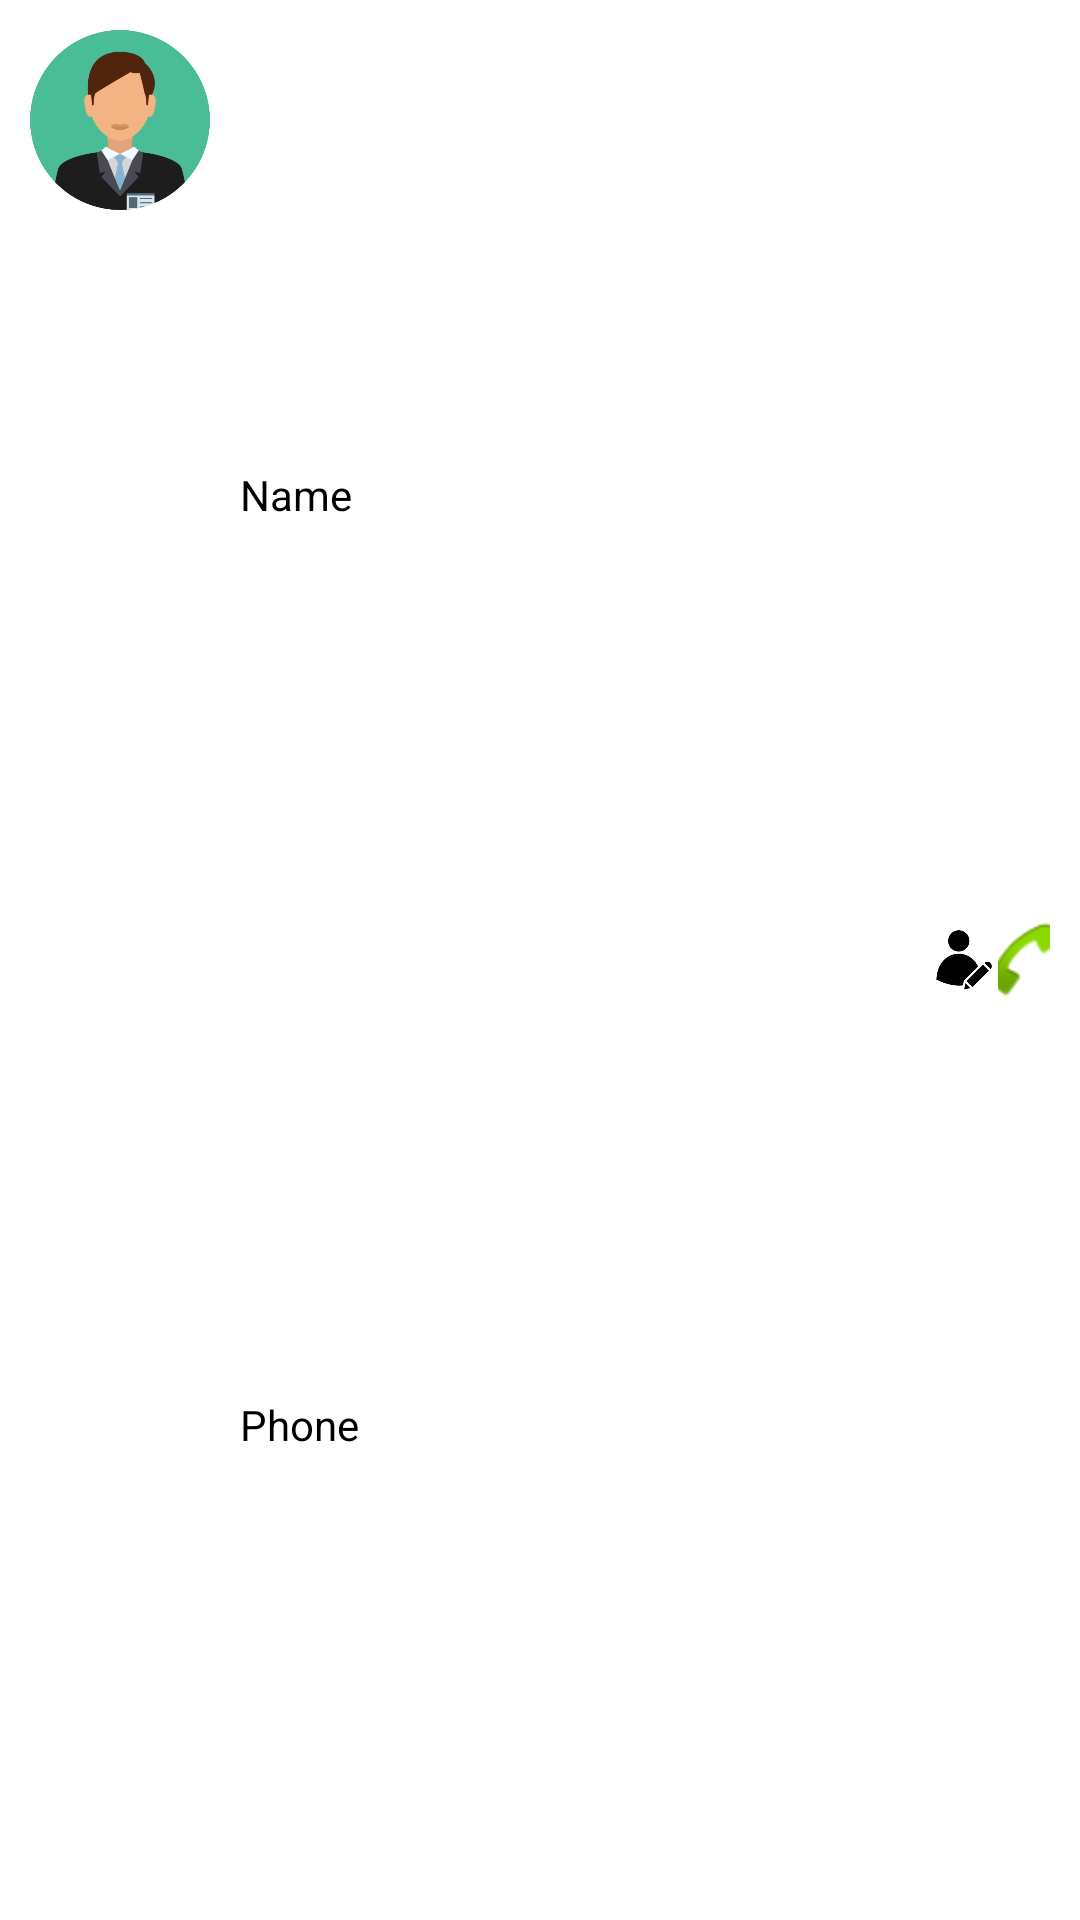

Where to tap for icons on this 1080px×1920px app screen, as (x=x, y=y):
edit: (x=964, y=960)
sym action call: (x=1024, y=959)
user: (x=120, y=120)
